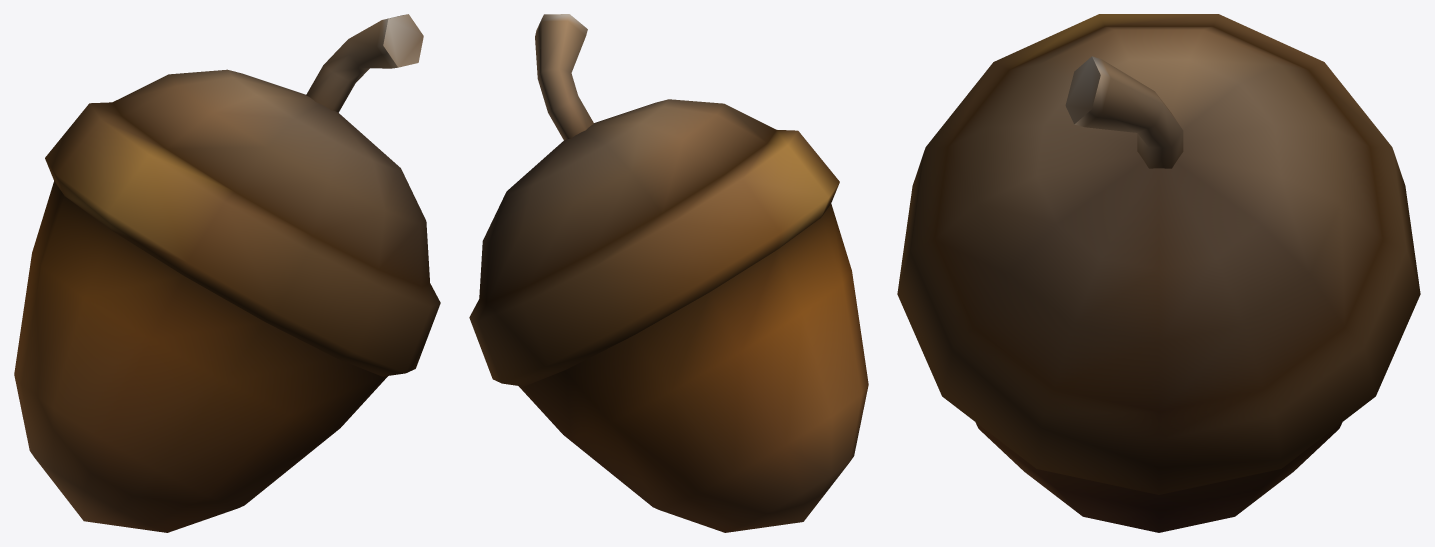
File: S_Acorn.FBX
The picture shows the model from 3 angles, left to right: view 1: azimuth 30°, elevation 25°; view 2: azimuth 150°, elevation 25°; view 3: azimuth 270°, elevation 25°; orthographic projection. The views are drawn at different scales.
Parts seen in each view (by area): view 1: Object001; view 2: Object001; view 3: Object001.
Boxes of the visible parts, x1=… form: Object001: x1=14, y1=14, x2=440, y2=532; Object001: x1=469, y1=14, x2=868, y2=532; Object001: x1=897, y1=14, x2=1420, y2=532.
Bounding box in the file's own units: 0.0221 × 0.0268 × 0.0219.
